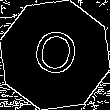O_S: (28, 25, 82, 85)
